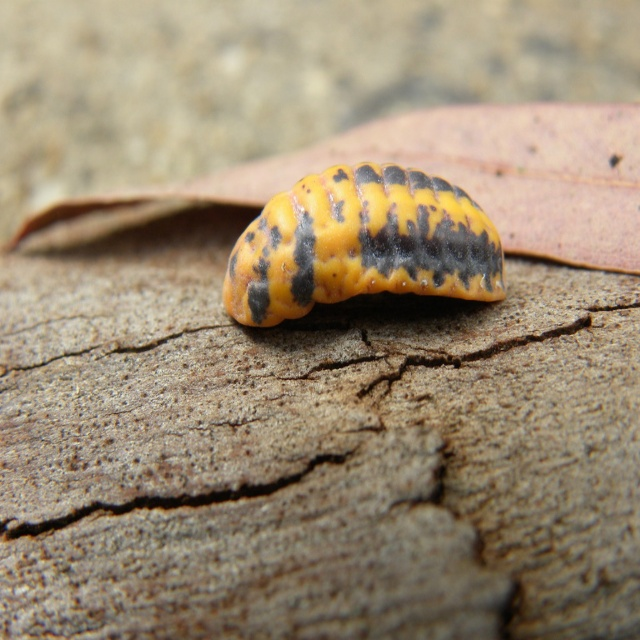Caterpillar: (222, 162, 510, 330)
